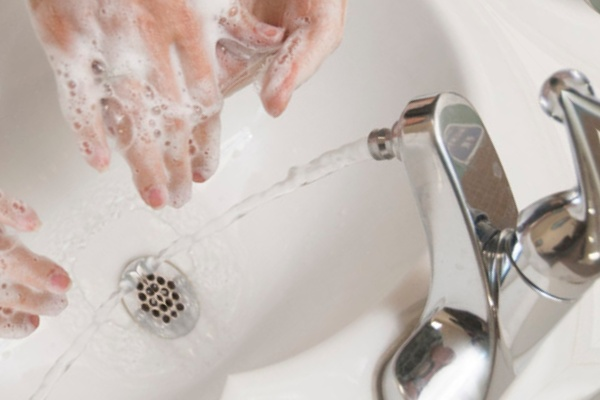washing hand: (0, 0, 585, 399)
